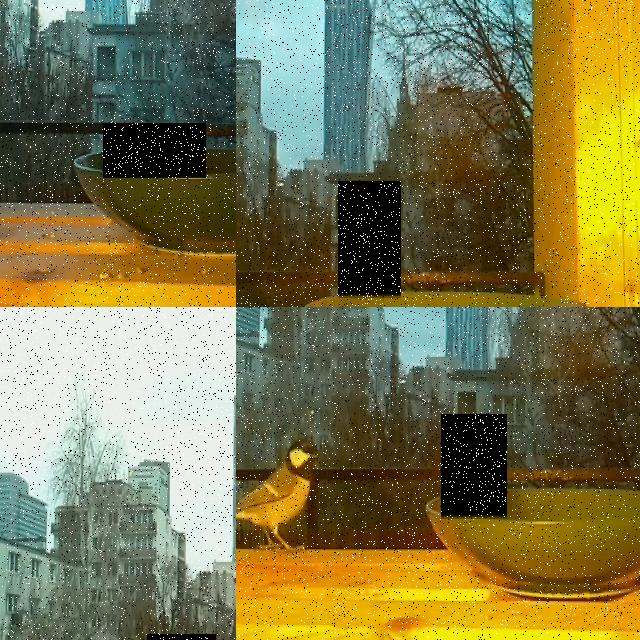Bogatka: (236, 433, 322, 565), (338, 182, 401, 298)
Modraszka: (103, 123, 206, 178)
Wrobel: (441, 414, 507, 518)
